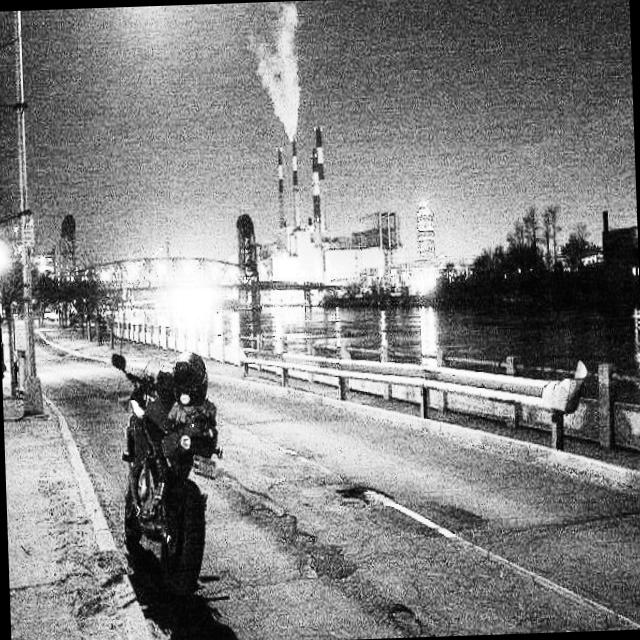Motorcycle: (108, 322, 232, 604)
